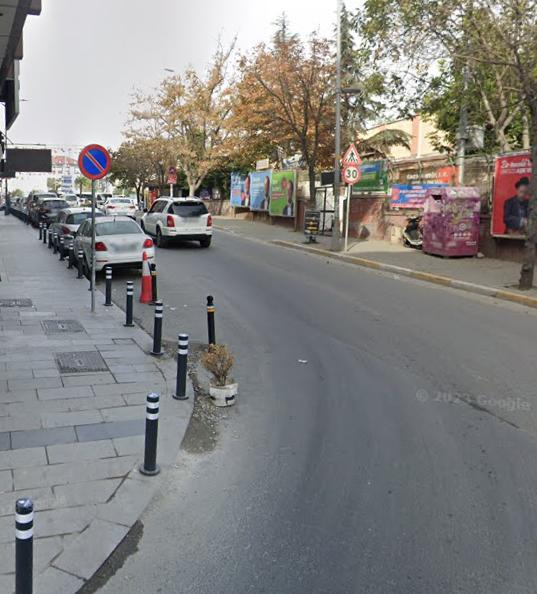nopark: (82, 143, 110, 178)
